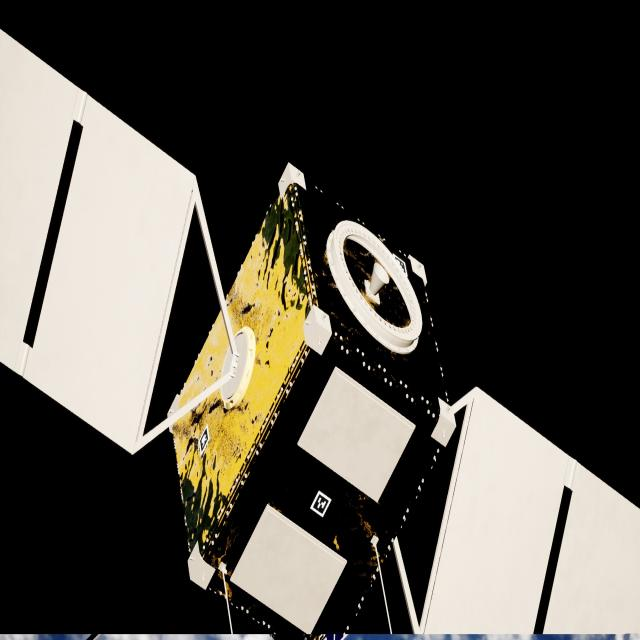satellite: (0, 30, 640, 640)
